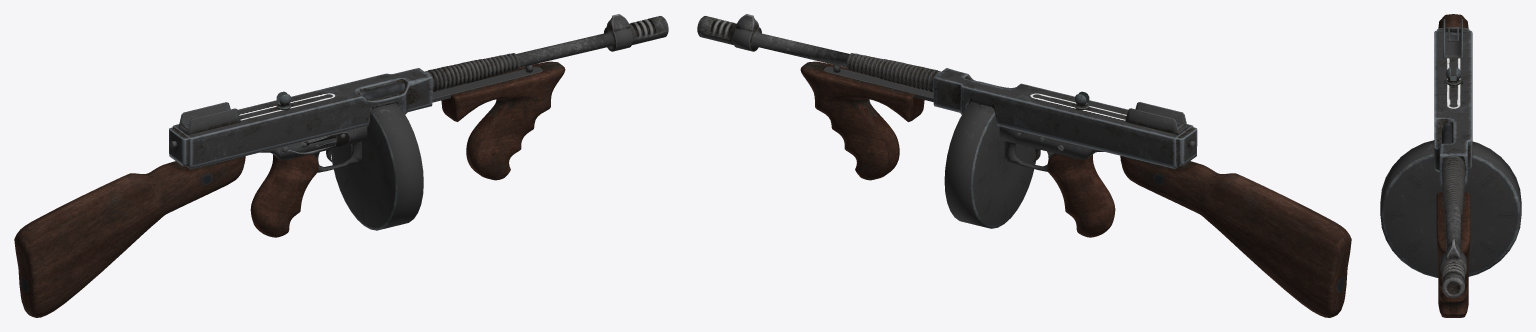
The model's file is thompson.glb.
3 views of the same model, side by side, from view 1: azimuth 30°, elevation 25°; view 2: azimuth 150°, elevation 25°; view 3: azimuth 270°, elevation 25° (orthographic). The views are drawn at different scales.
Parts seen in each view (by area): view 1: Plane.001, Plane.006, Cylinder.003_Cylinder.004, Plane.003, Cylinder, Plane, Plane.004, Plane.005, Cylinder.006_Cylinder.007, Cube; view 2: Plane.001, Plane.006, Cylinder.003_Cylinder.004, Plane.003, Cylinder, Plane, Plane.004, Plane.005, Cube; view 3: Cylinder.003_Cylinder.004, Plane.006, Cylinder, Plane.003, Plane.005, Plane.001, Cylinder.002_Cylinder.003, Cylinder.006_Cylinder.007.
Boxes of the visible parts, x1,y1,x2,y2 form: Plane.001: (14, 156, 245, 317); Plane.006: (169, 68, 432, 168); Cylinder.003_Cylinder.004: (331, 103, 423, 230); Plane.003: (441, 61, 565, 180); Cylinder: (425, 14, 668, 91); Plane: (250, 154, 318, 237); Plane.004: (246, 126, 367, 172); Plane.005: (178, 102, 240, 134); Cylinder.006_Cylinder.007: (283, 82, 404, 154); Cube: (432, 67, 542, 102); Plane.001: (1120, 155, 1351, 317); Plane.006: (933, 68, 1197, 168); Cylinder.003_Cylinder.004: (944, 103, 1035, 228); Plane.003: (800, 61, 924, 180); Cylinder: (697, 14, 940, 91); Plane: (1047, 153, 1115, 237); Plane.004: (999, 126, 1104, 171); Plane.005: (1125, 102, 1187, 134); Cube: (824, 66, 933, 101); Cylinder.003_Cylinder.004: (1380, 140, 1521, 277); Plane.006: (1434, 28, 1472, 185); Cylinder: (1440, 155, 1466, 298); Plane.003: (1436, 192, 1470, 317); Plane.005: (1443, 19, 1462, 58); Plane.001: (1438, 14, 1468, 28); Cylinder.002_Cylinder.003: (1446, 67, 1461, 85); Cylinder.006_Cylinder.007: (1442, 123, 1451, 143).
Bounding box in the file's own units: 2 × 0.4841 × 0.3632.
Materials: 12 (12 with a texture image).
